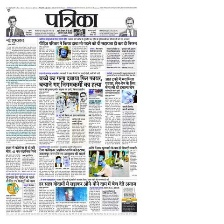news_paper: (5, 4, 138, 217)
